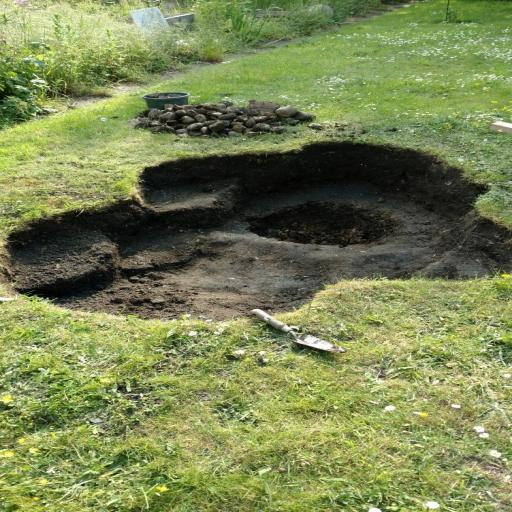entrance: (0, 126, 510, 330)
